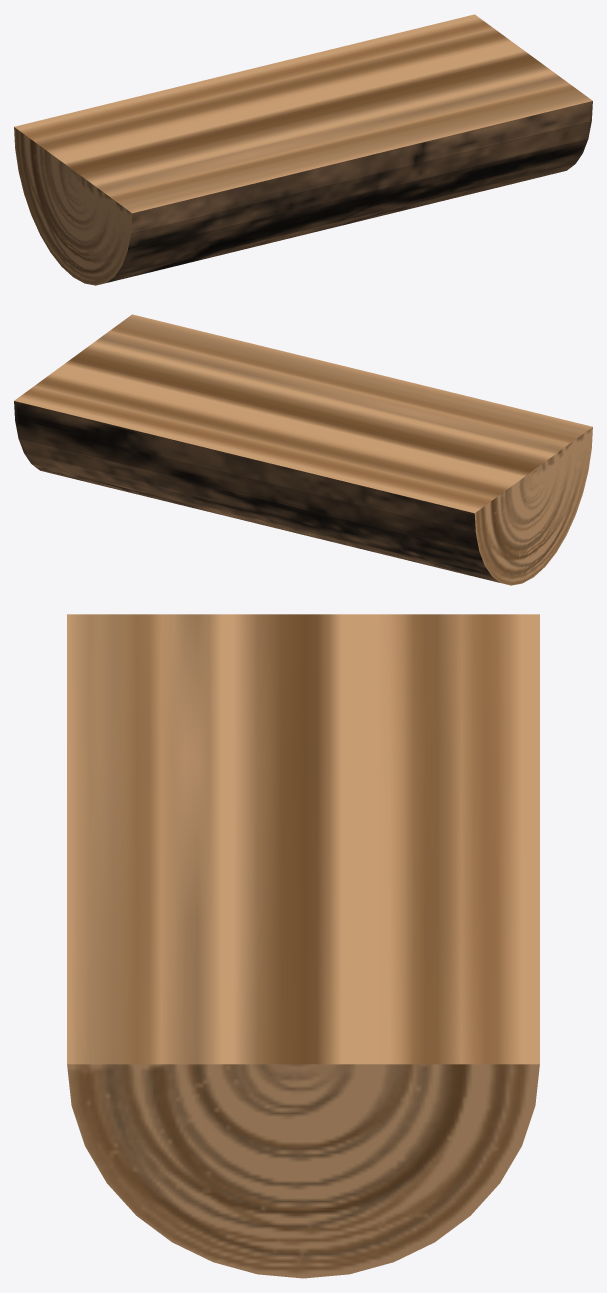
The model's file is log.glb.
3 views of the same model, one above another, from view 1: azimuth 30°, elevation 25°; view 2: azimuth 150°, elevation 25°; view 3: azimuth 270°, elevation 25° (orthographic). The views are drawn at different scales.
Parts seen in each view (by area): view 1: Cylinder; view 2: Cylinder; view 3: Cylinder.
Boxes of the visible parts, box(x1,y1,x2,y2) form: Cylinder: box(14, 14, 592, 285); Cylinder: box(14, 314, 592, 585); Cylinder: box(67, 614, 539, 1278).
Size of the model in its own units: 9 by 2 by 4.
Materials: 2 (2 with a texture image).
